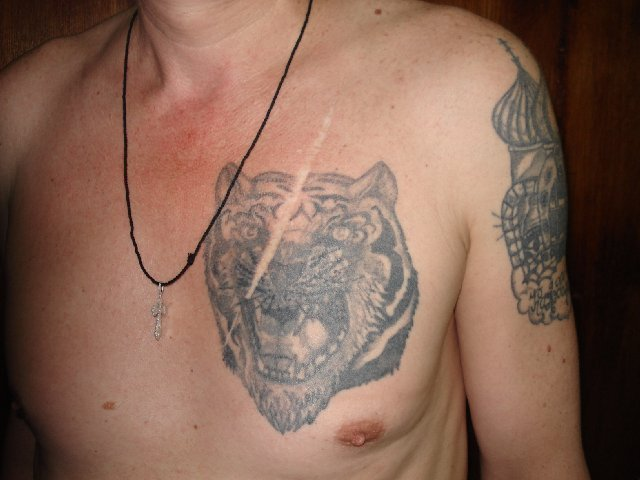tatu5_tigr: (197, 159, 423, 430)
